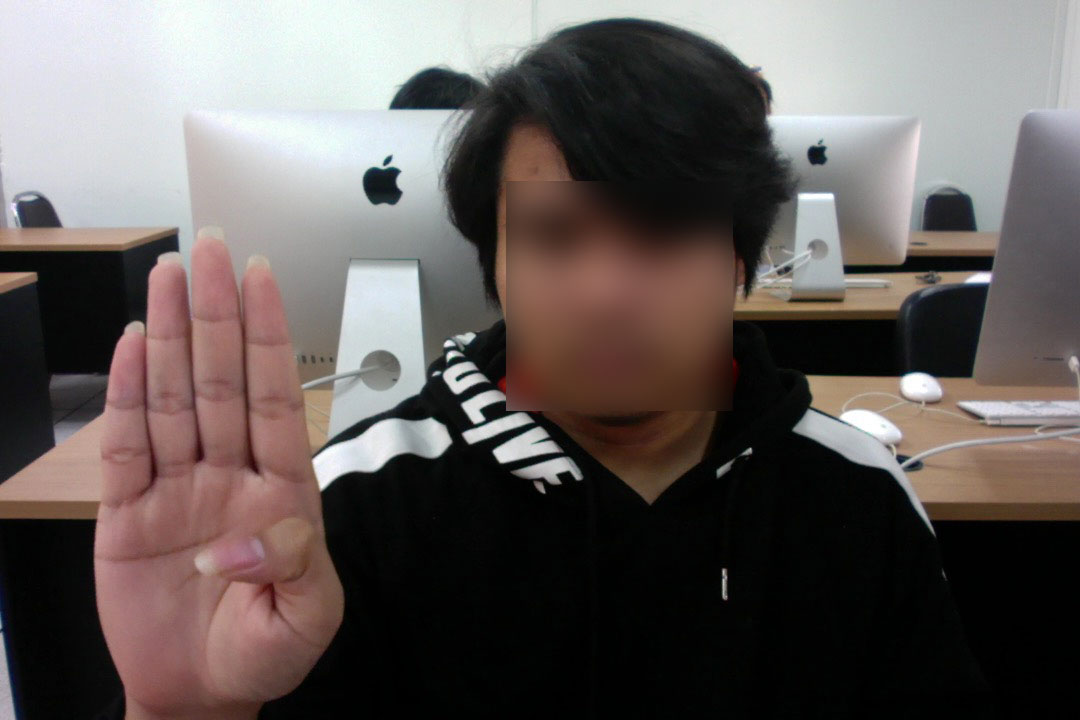bor: (75, 215, 358, 712)
